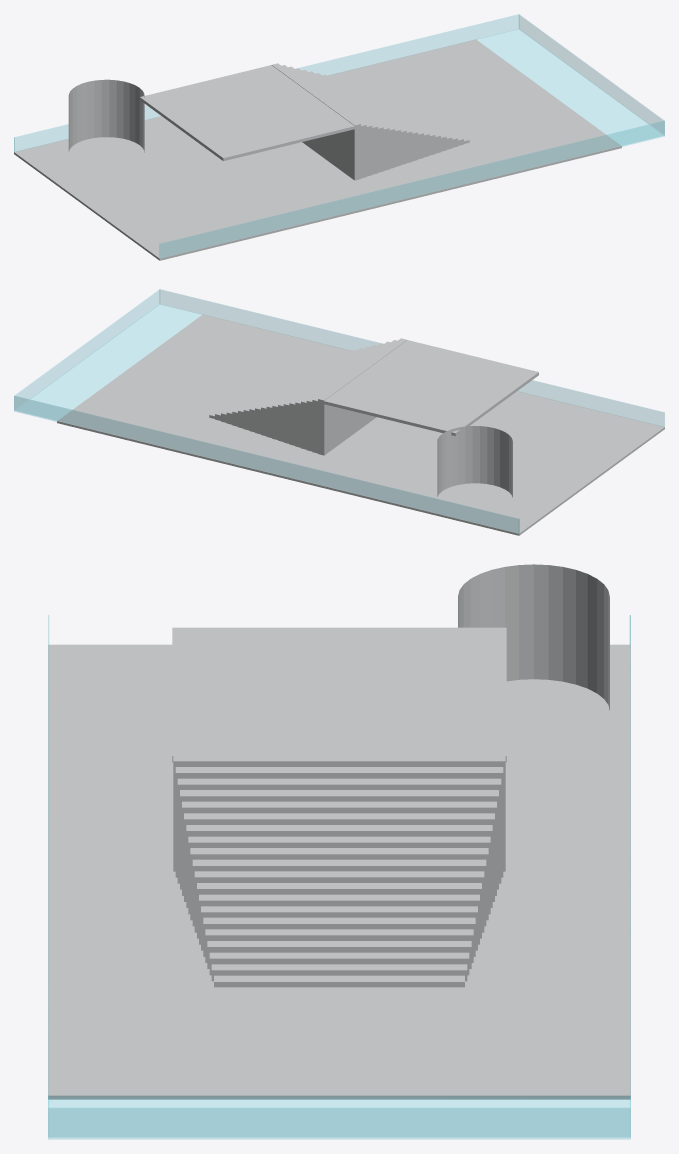
File: deck.glb
3 renders of one model, top to bottom at view 1: azimuth 30°, elevation 25°; view 2: azimuth 150°, elevation 25°; view 3: azimuth 270°, elevation 25°, orthographic. The views are drawn at different scales.
Parts seen in each view (by area): view 1: deck; view 2: deck; view 3: deck.
Boxes of the visible parts, x1,y1,x2,y2 form: deck: (14, 14, 664, 260); deck: (14, 289, 664, 535); deck: (48, 564, 630, 1139).
Size of the model in its own units: 38.4 by 4.32 by 19.2.
